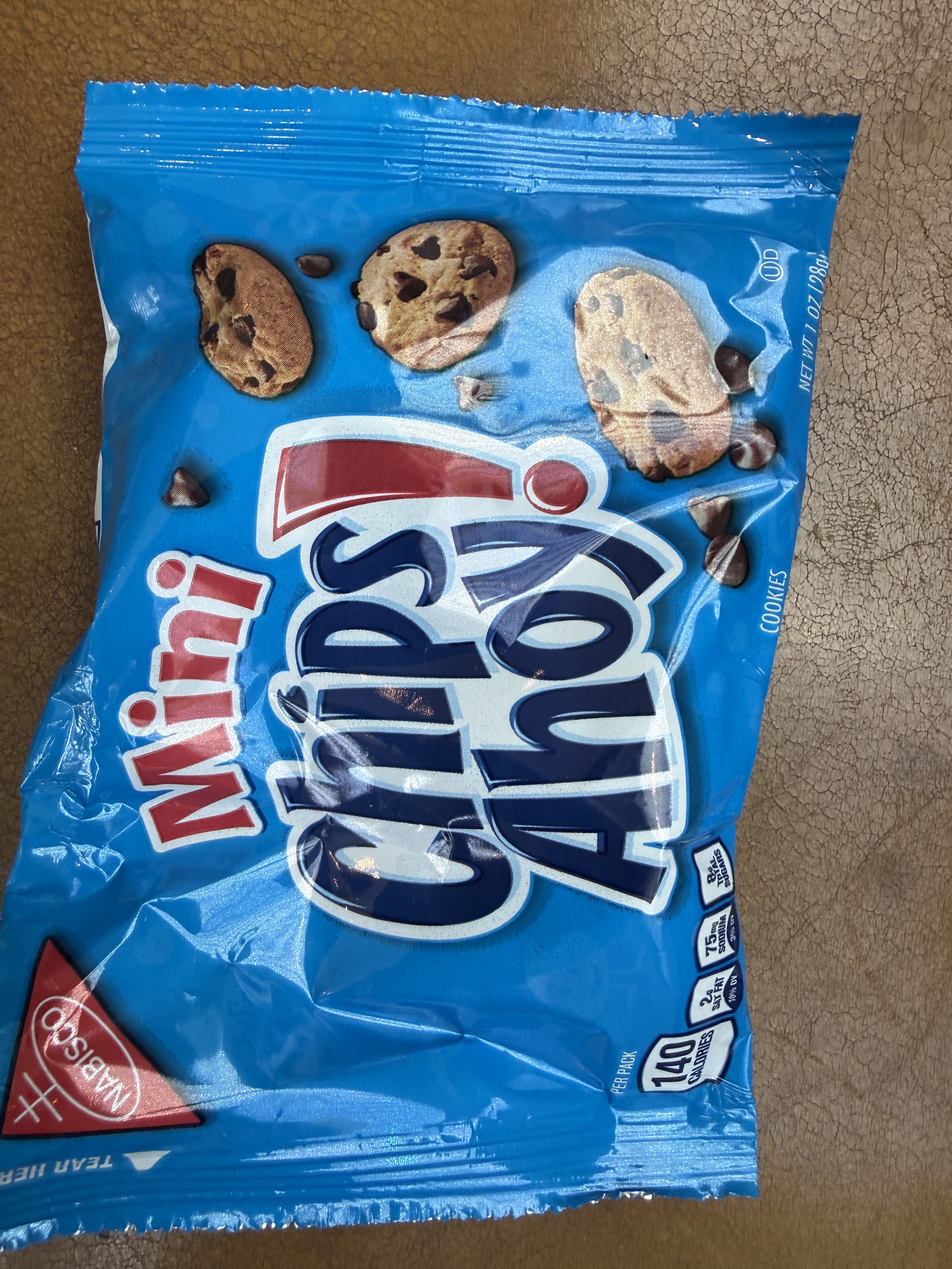chips_ahoy: (38, 61, 801, 1223)
